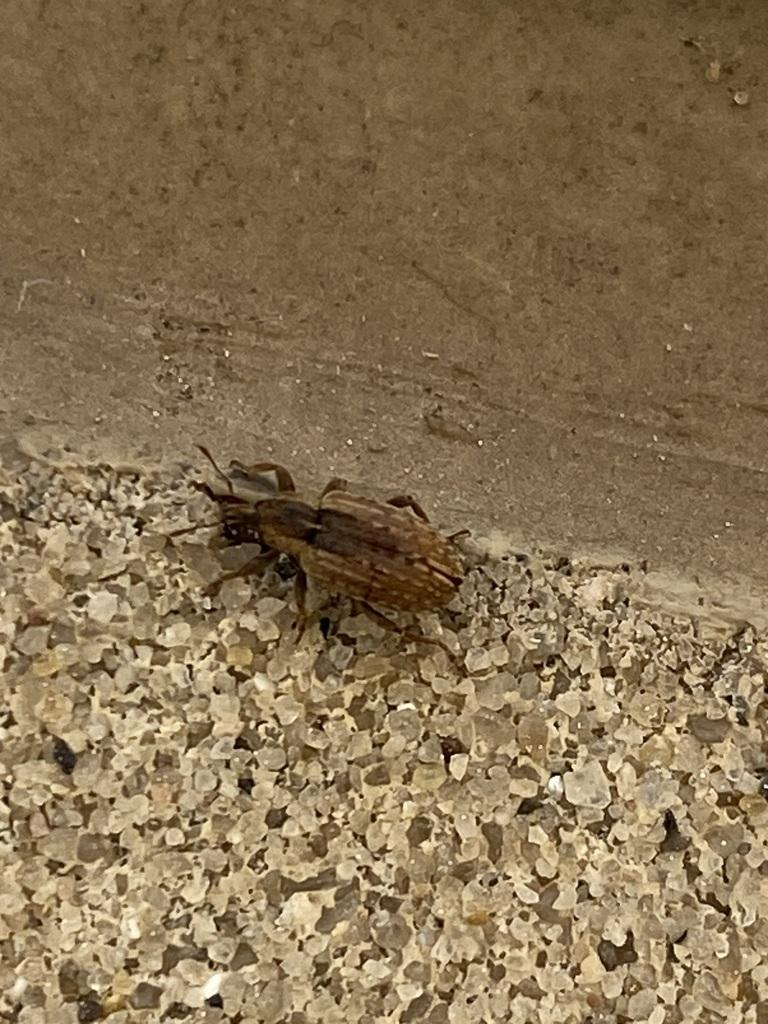weevils: (119, 384, 526, 706)
